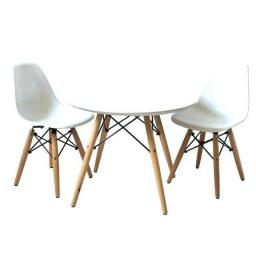Chair: (15, 56, 93, 196), (169, 65, 249, 194)
